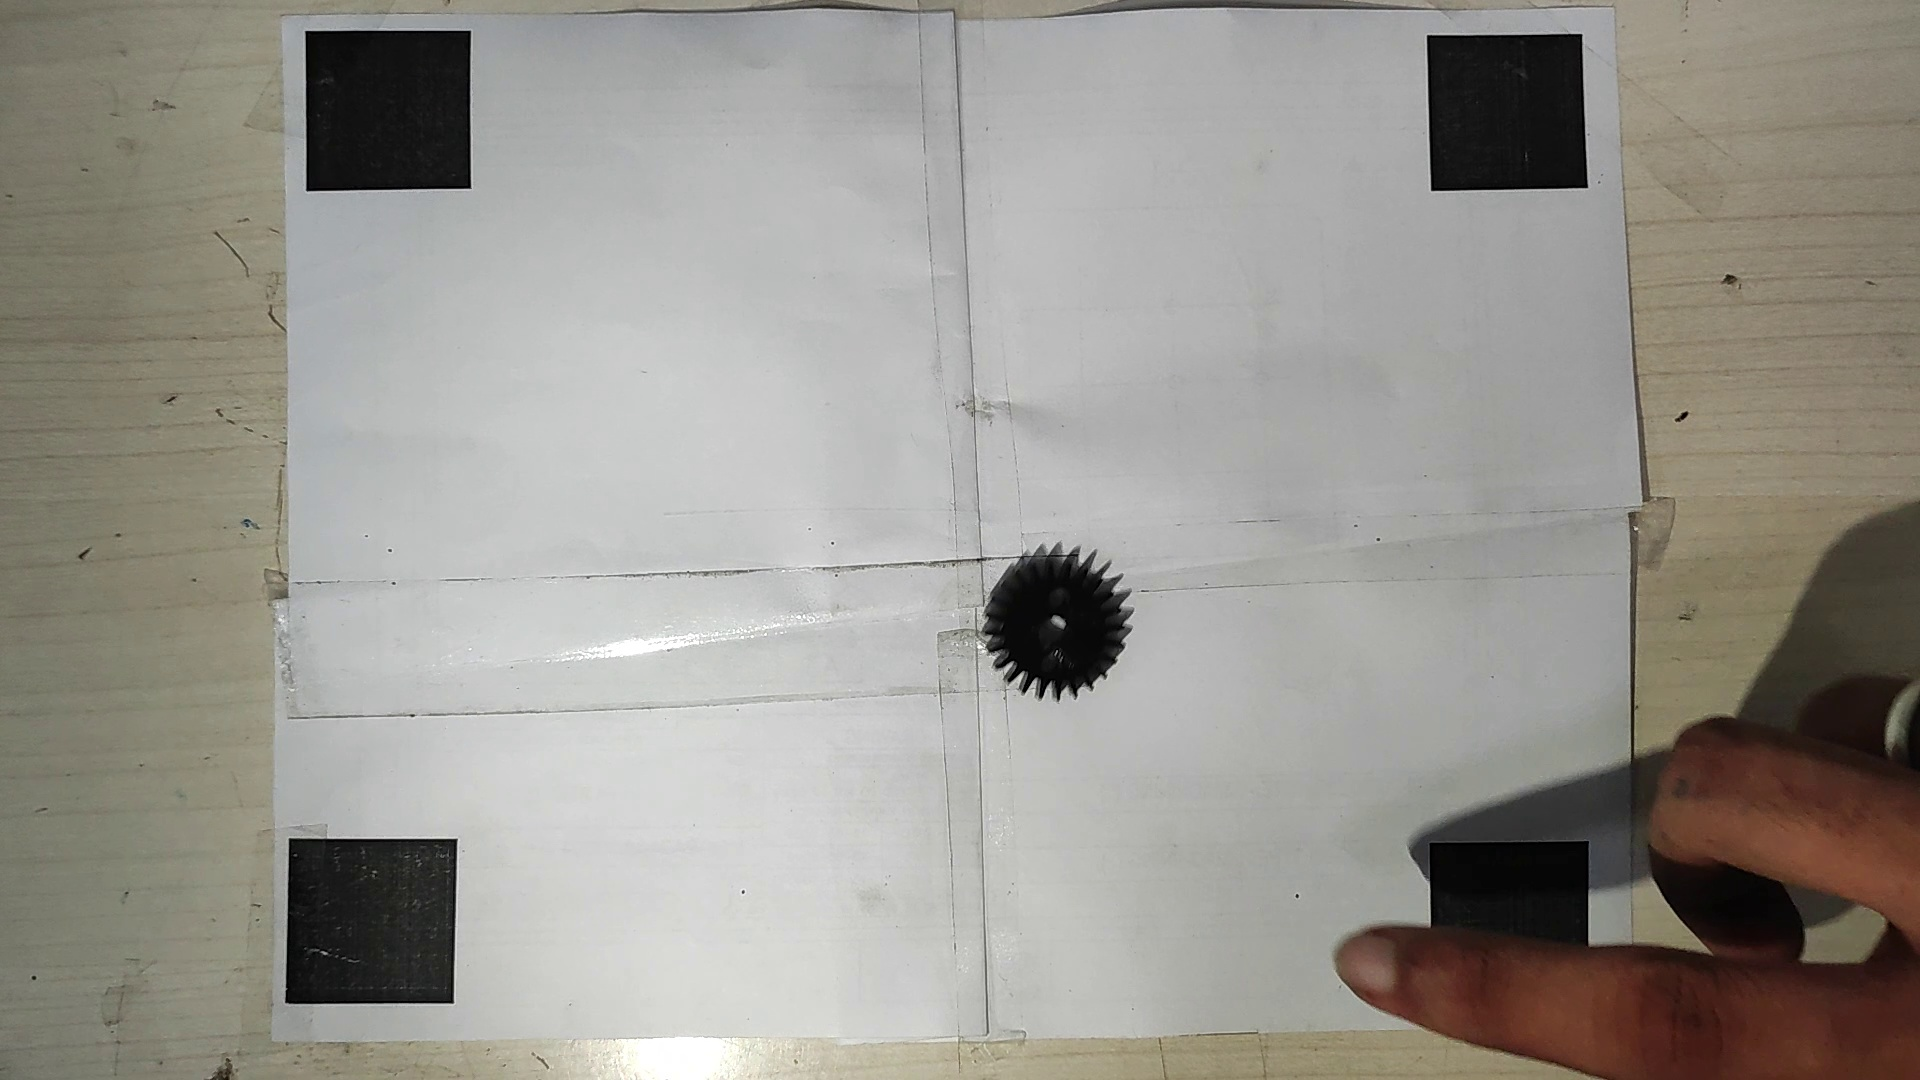Gear: (980, 554, 1133, 702)
